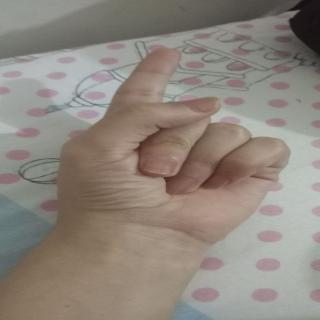BAA: (50, 37, 306, 235)
